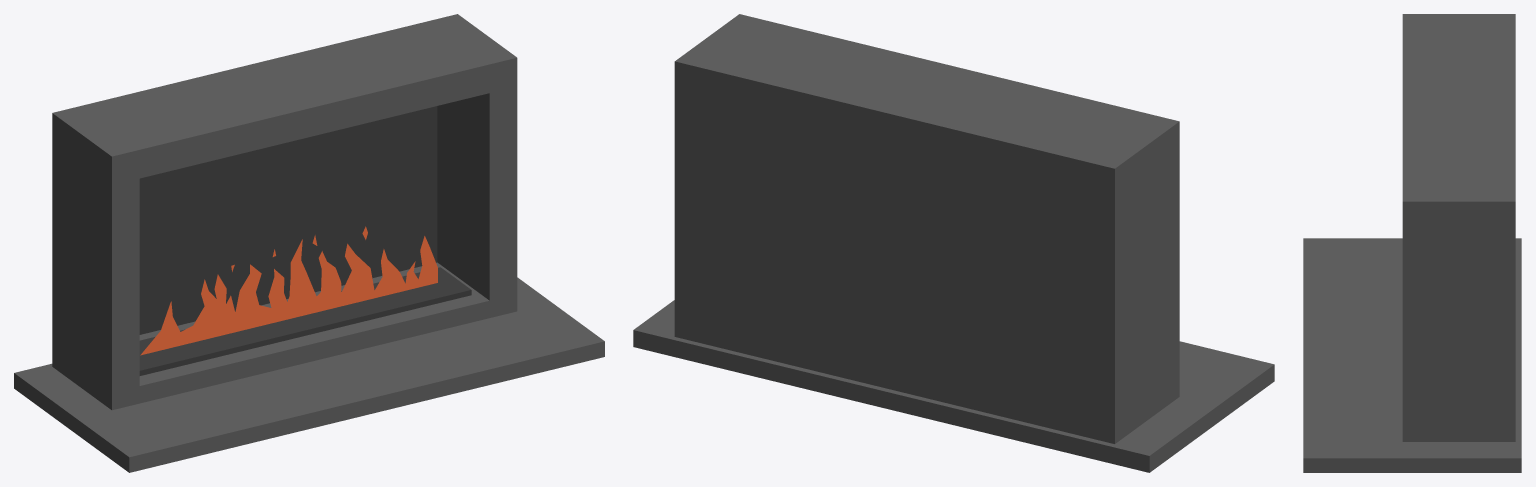
File: tv_wall_025.glb
3 views of the same model, side by side, from view 1: azimuth 30°, elevation 25°; view 2: azimuth 150°, elevation 25°; view 3: azimuth 270°, elevation 25° (orthographic). The views are drawn at different scales.
Visible parts, largest first — view 1: tv_wall_025; view 2: tv_wall_025; view 3: tv_wall_025.
Boxes of the visible parts, box(x1,y1,x2,y2) form: tv_wall_025: box(14, 14, 604, 472); tv_wall_025: box(633, 14, 1274, 472); tv_wall_025: box(1303, 14, 1521, 472).
Bounding box in the file's own units: 1.27 × 0.6902 × 0.5354.
Materials: 1 (1 with a texture image).
